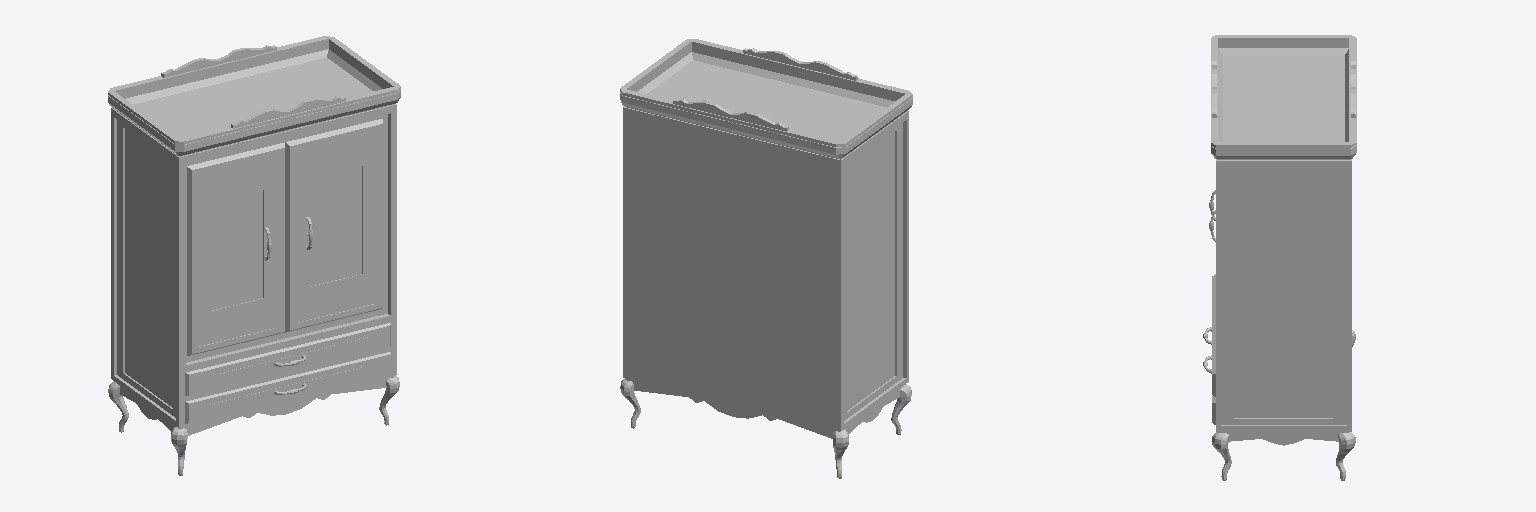
The model's file is ShortCloset.obj.
3 renders of one model, left to right at view 1: azimuth 30°, elevation 25°; view 2: azimuth 150°, elevation 25°; view 3: azimuth 270°, elevation 25°, orthographic.
Parts seen in each view (by area): view 1: ShortCloset; view 2: ShortCloset; view 3: ShortCloset.
Part boxes in pixels (left/top/right/bottom): ShortCloset: left=108, top=36, right=400, bottom=475; ShortCloset: left=620, top=39, right=912, bottom=478; ShortCloset: left=1203, top=35, right=1356, bottom=480.
Size of the model in its own units: 1.55 by 2.27 by 0.9068.